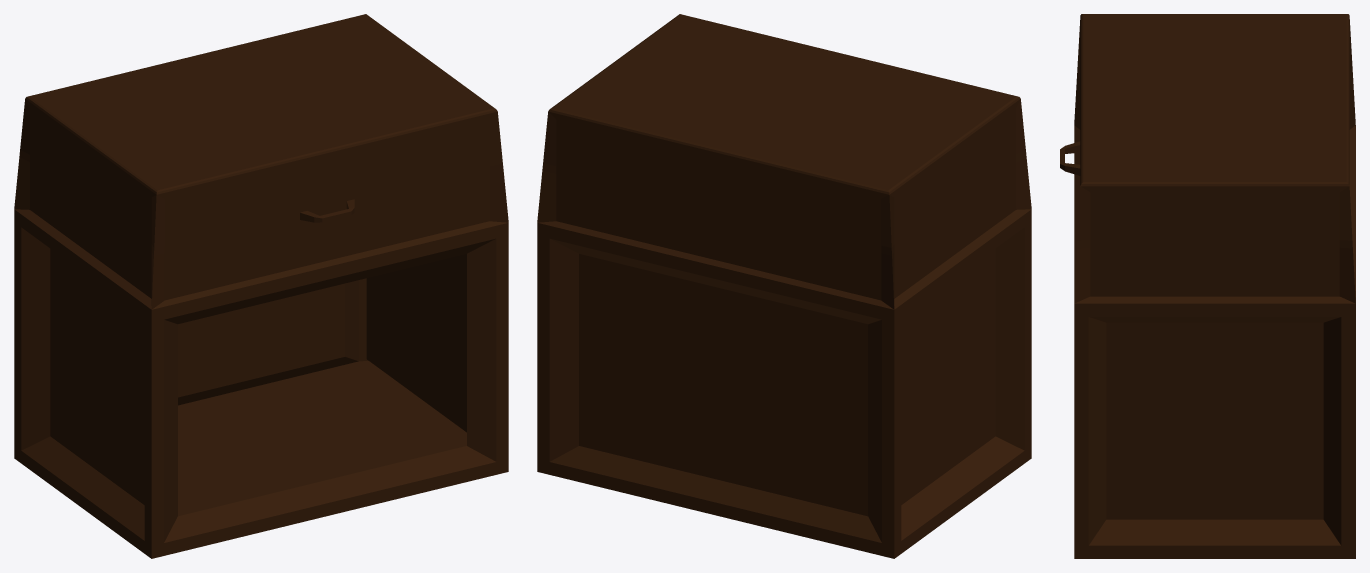
File: Bed cabinet.fbx
The picture shows the model from 3 angles, left to right: view 1: azimuth 30°, elevation 25°; view 2: azimuth 150°, elevation 25°; view 3: azimuth 270°, elevation 25°; orthographic projection. The views are drawn at different scales.
Visible parts, largest first — view 1: bed cabinet; view 2: bed cabinet; view 3: bed cabinet.
Part boxes in pixels (box(x1,y1,x2,y2)): bed cabinet: box(14, 14, 508, 558); bed cabinet: box(537, 14, 1031, 558); bed cabinet: box(1060, 14, 1355, 558).
Size of the model in its own units: 157 by 152 by 110.
